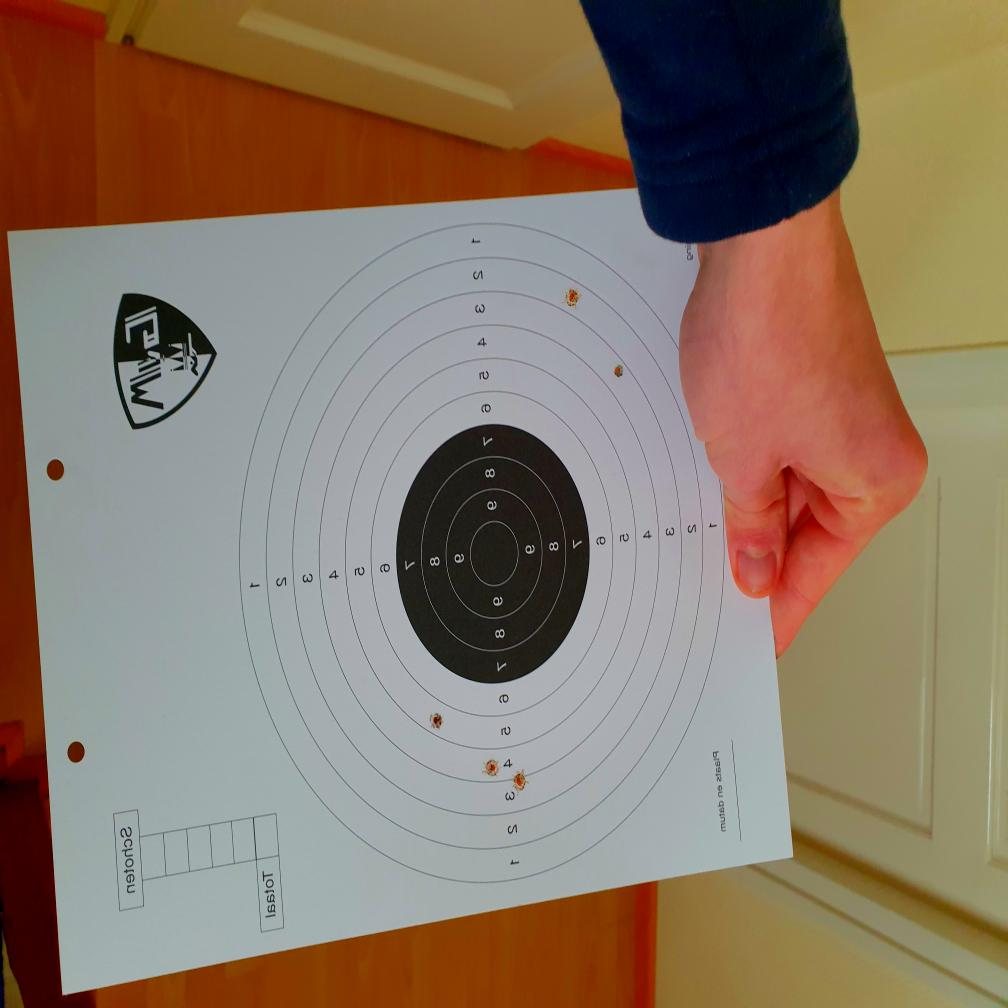4: (514, 768, 530, 796), (483, 755, 500, 781)
5: (428, 710, 444, 736)
Target: (239, 217, 718, 885)
black_contour: (396, 421, 590, 685)
